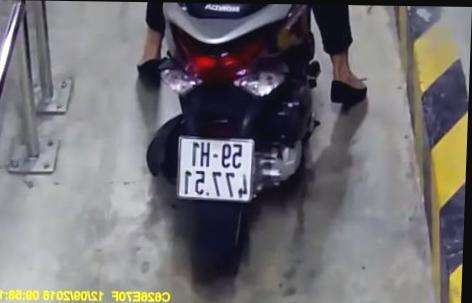License_Plate: (167, 126, 265, 209)
